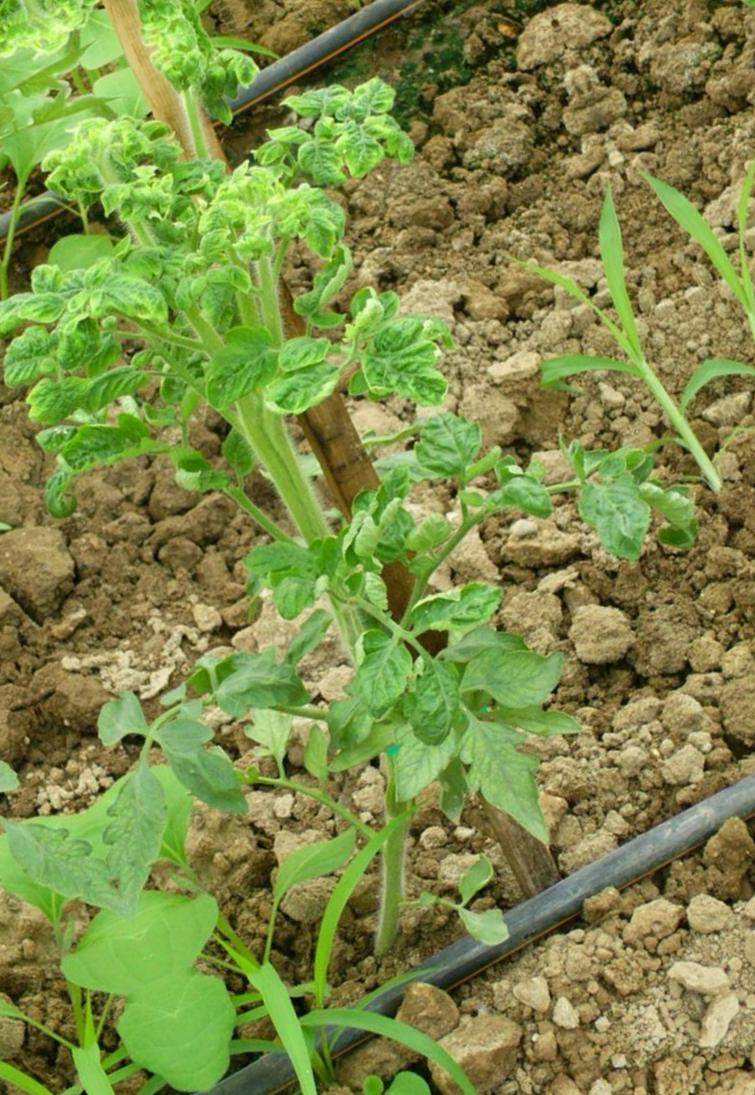Tomato leaf: (433, 679, 574, 868), (76, 758, 214, 912), (174, 309, 308, 421), (352, 304, 474, 425), (149, 692, 260, 819), (566, 454, 679, 577), (401, 397, 497, 501)
